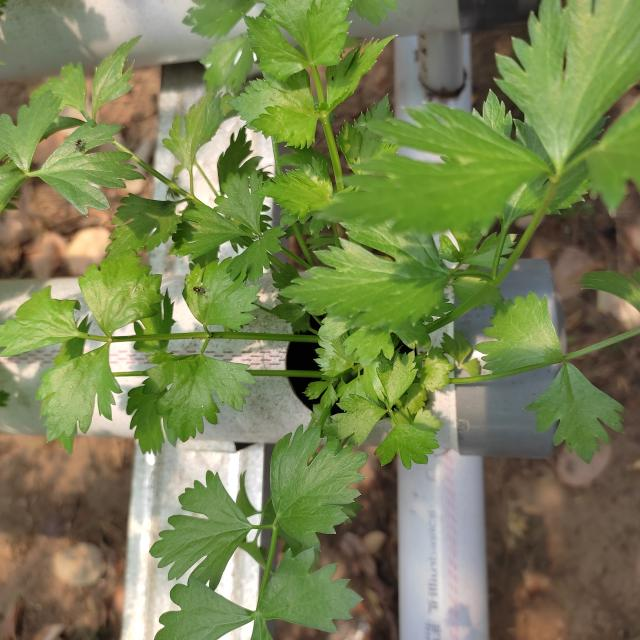Wet Waste: (88, 23, 618, 459)
